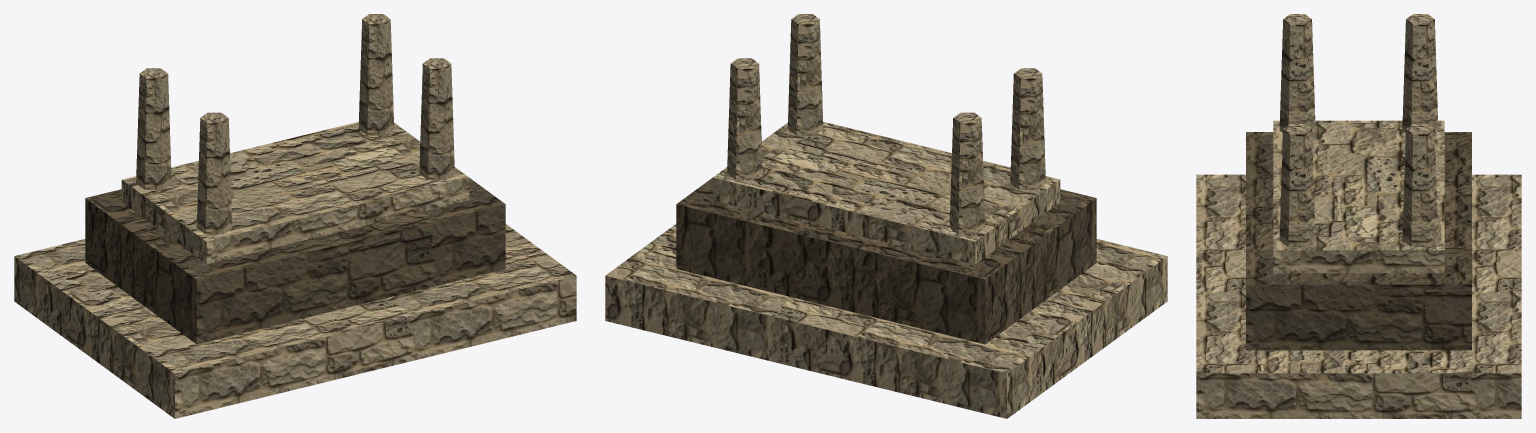
Rendered from altar_01.glb.
3 renders of one model, left to right at view 1: azimuth 30°, elevation 25°; view 2: azimuth 150°, elevation 25°; view 3: azimuth 270°, elevation 25°, orthographic.
Visible parts, largest first — view 1: altar_01; view 2: altar_01; view 3: altar_01.
Boxes of the visible parts, left/top/right/bottom form: altar_01: left=14, top=14, right=576, bottom=418; altar_01: left=605, top=14, right=1167, bottom=418; altar_01: left=1196, top=14, right=1521, bottom=418.
Size of the model in its own units: 2.6 by 1.5 by 1.8.
2 materials, 2 textured.
